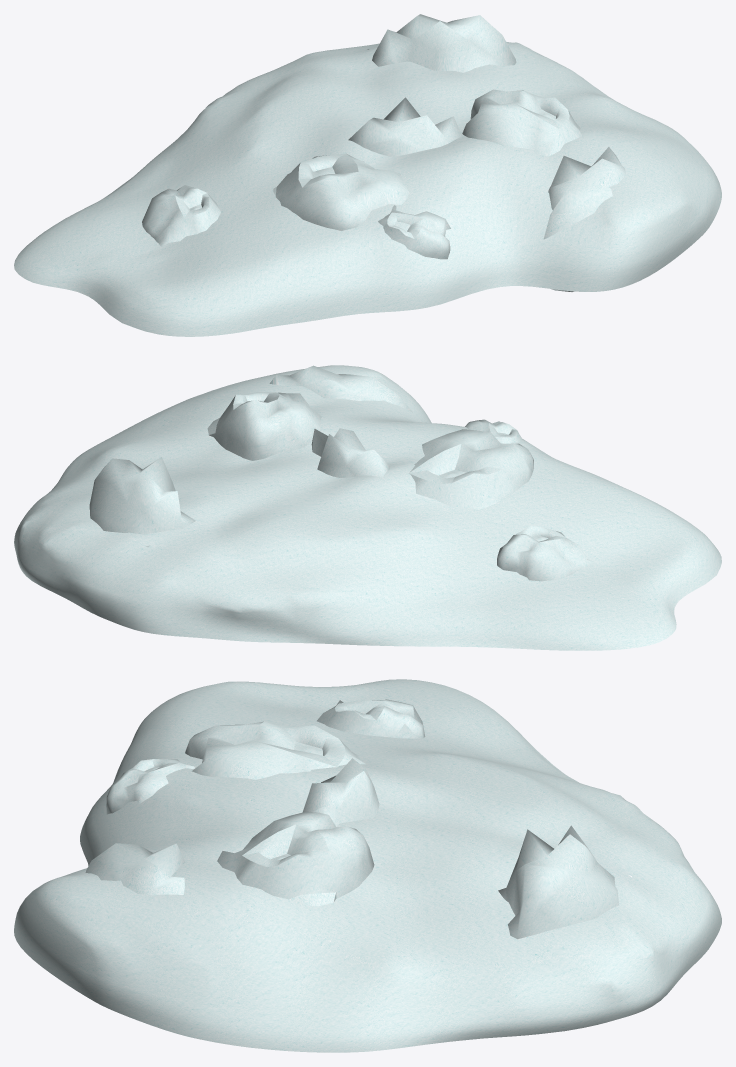
Rendered from nieve.obj.
3 views of the same model, one above another, from view 1: azimuth 30°, elevation 25°; view 2: azimuth 150°, elevation 25°; view 3: azimuth 270°, elevation 25° (orthographic). The views are drawn at different scales.
Parts seen in each view (by area): view 1: objSign_rock1; view 2: objSign_rock1; view 3: objSign_rock1.
Part boxes in pixels (x1,y1,x2,y2): objSign_rock1: (14,14,721,336); objSign_rock1: (14,365,721,650); objSign_rock1: (14,679,721,1052).
Size of the model in its own units: 2.48 by 0.5221 by 1.99.
1 material, 1 textured.
